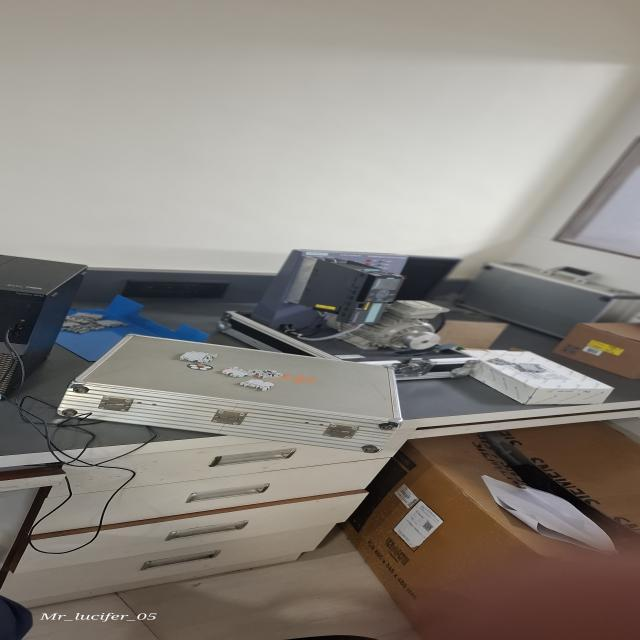Inverted: (238, 378, 280, 392), (220, 366, 258, 378)
Pass: (248, 366, 284, 380)
